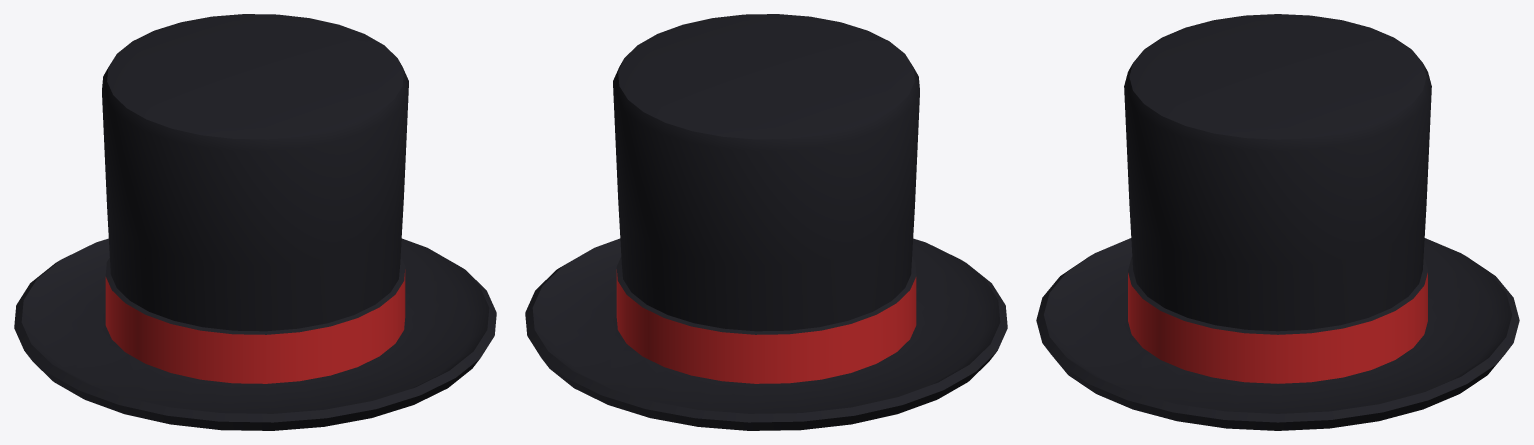
The model's file is acc_tophat.glb.
The picture shows the model from 3 angles, left to right: view 1: azimuth 30°, elevation 25°; view 2: azimuth 150°, elevation 25°; view 3: azimuth 270°, elevation 25°; orthographic projection.
Visible parts, largest first — view 1: TopHat; view 2: TopHat; view 3: TopHat.
Part boxes in pixels (box(x1,y1,x2,y2)): TopHat: box(14, 14, 496, 430); TopHat: box(525, 14, 1007, 430); TopHat: box(1036, 14, 1519, 430).
Size of the model in its own units: 0.644 by 0.39 by 0.644.
